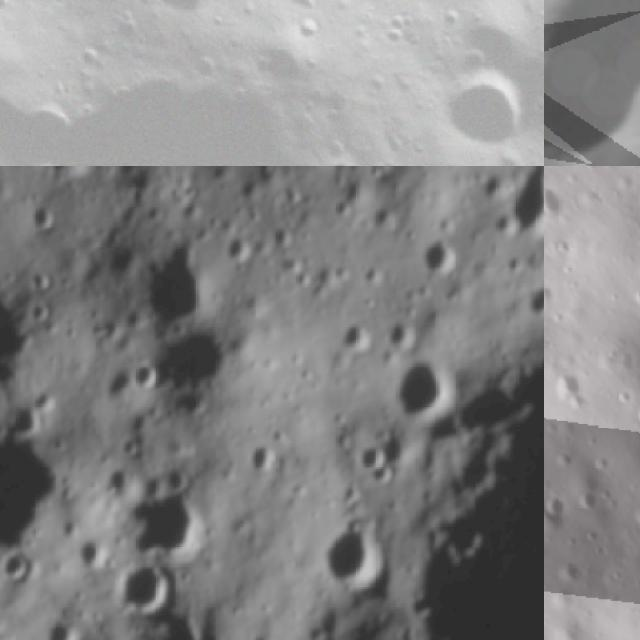crater: (21, 0, 404, 166), (544, 0, 640, 166), (420, 39, 544, 166), (148, 322, 252, 419), (119, 470, 208, 560), (132, 234, 207, 333), (321, 510, 396, 599), (380, 358, 460, 424), (120, 0, 245, 40), (498, 28, 544, 133), (109, 554, 180, 613), (544, 0, 583, 96), (501, 166, 544, 245), (547, 547, 598, 598), (544, 481, 587, 541), (413, 230, 464, 277), (334, 310, 372, 360), (544, 173, 575, 233), (63, 531, 102, 572), (0, 546, 39, 587), (0, 401, 41, 439), (221, 225, 261, 262), (544, 271, 570, 324), (26, 197, 60, 237), (39, 610, 83, 640), (248, 440, 282, 477), (354, 440, 389, 475), (266, 216, 300, 251), (125, 358, 157, 392), (359, 260, 392, 286), (525, 279, 544, 324), (30, 388, 62, 412), (27, 264, 52, 293), (330, 197, 356, 224), (23, 298, 48, 320)
